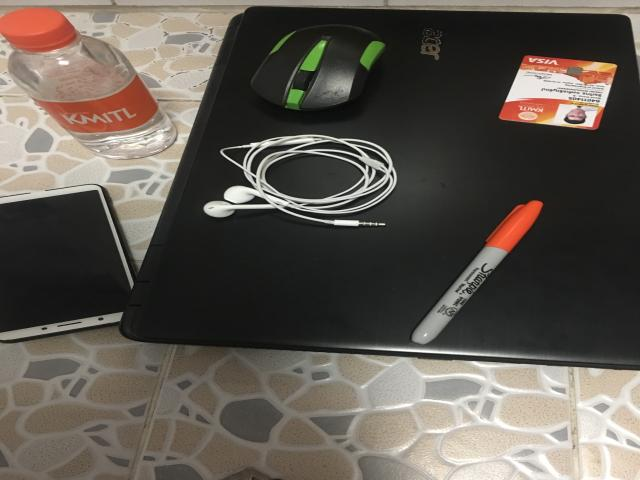Mobile phone: (0, 185, 153, 343)
Mouse: (250, 24, 385, 110)
Pen: (412, 201, 543, 344)
bottle: (0, 8, 177, 158)
wire: (203, 135, 397, 227)
